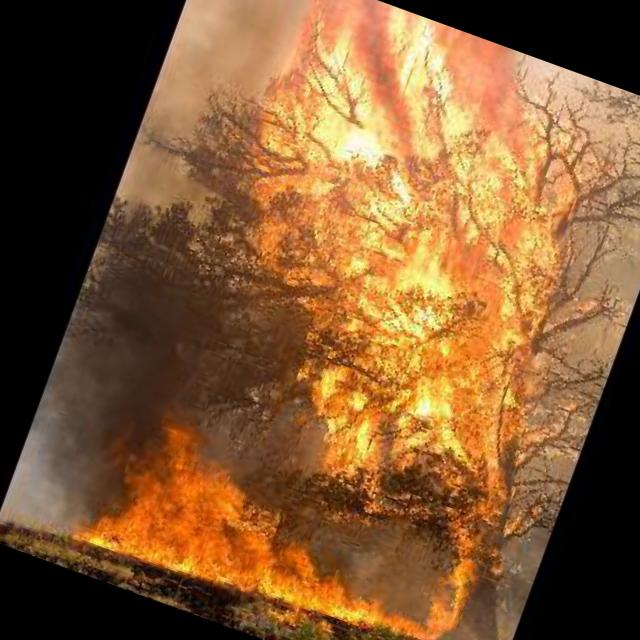fire: (77, 0, 640, 640)
